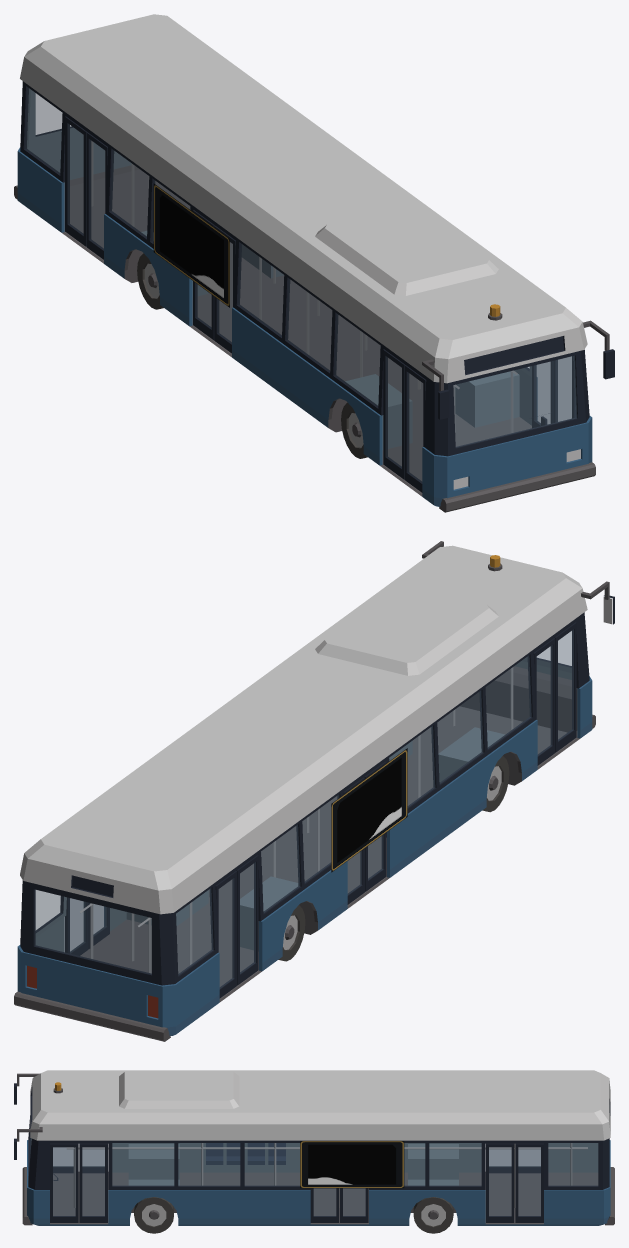
File: Passenger_Bus.glb
The picture shows the model from 3 angles, top to bottom: view 1: azimuth 30°, elevation 25°; view 2: azimuth 150°, elevation 25°; view 3: azimuth 270°, elevation 25°; orthographic projection. The views are drawn at different scales.
Parts seen in each view (by area): view 1: body, glazing, TYRANZ_Logo_-1, door-right-1-rear-glass, door-right-3-rear-glass, door-right-3-front-glass, door-right-1-front-glass, door-right-3-rear-frame, door-right-1-rear-frame, door-right-1-front-frame, door-right-3-front-frame, door-left-1-front-glass (+4 smaller); view 2: body, glazing, TYRANZ_Logo_-1, door-right-1-front-glass, door-right-3-front-glass, door-right-3-rear-glass, door-right-1-rear-glass, door-right-1-front-frame, door-right-3-front-frame, door-right-3-rear-frame, door-right-1-rear-frame, tyre-rr (+2 smaller); view 3: body, glazing, TYRANZ_Logo_1, door-left-1-rear-glass, door-left-1-front-glass, door-left-3-rear-glass, door-left-3-front-glass, tyre-rl, tyre-fl, door-left-1-rear-frame, door-left-1-front-frame, door-left-3-rear-frame (+9 smaller).
Part boxes in pixels (x1,y1,x2,y2): body: (14, 14, 614, 512); glazing: (25, 87, 576, 447); TYRANZ_Logo_-1: (153, 183, 229, 307); door-right-1-rear-glass: (386, 356, 401, 467); door-right-3-rear-glass: (68, 124, 83, 234); door-right-3-front-glass: (89, 139, 104, 249); door-right-1-front-glass: (407, 372, 422, 482); door-right-3-rear-frame: (65, 116, 87, 246); door-right-1-rear-frame: (383, 349, 404, 479); door-right-1-front-frame: (404, 365, 426, 492); door-right-3-front-frame: (86, 132, 107, 259); door-left-1-front-glass: (556, 356, 571, 421); body: (14, 541, 614, 1041); glazing: (35, 656, 531, 975); TYRANZ_Logo_-1: (331, 748, 407, 872); door-right-1-front-glass: (558, 629, 573, 740); door-right-3-front-glass: (240, 862, 255, 973); door-right-3-rear-glass: (219, 878, 234, 988); door-right-1-rear-glass: (537, 645, 552, 755); door-right-1-front-frame: (554, 622, 576, 752); door-right-3-front-frame: (236, 855, 258, 985); door-right-3-rear-frame: (215, 871, 237, 998); door-right-1-rear-frame: (533, 638, 555, 765); tyre-rr: (278, 905, 305, 961); body: (14, 1070, 614, 1225); glazing: (30, 1138, 597, 1185); TYRANZ_Logo_1: (300, 1141, 404, 1188); door-left-1-rear-glass: (82, 1147, 104, 1216); door-left-1-front-glass: (53, 1147, 75, 1216); door-left-3-rear-glass: (518, 1147, 540, 1216); door-left-3-front-glass: (489, 1147, 511, 1216); tyre-rl: (413, 1197, 453, 1233); tyre-fl: (134, 1197, 173, 1233); door-left-1-rear-frame: (79, 1143, 107, 1222); door-left-1-front-frame: (50, 1143, 78, 1222); door-left-3-rear-frame: (515, 1143, 543, 1222).
Size of the model in its own units: 3.37 by 3.35 by 14.41.
Materials: 3 (1 with a texture image).
